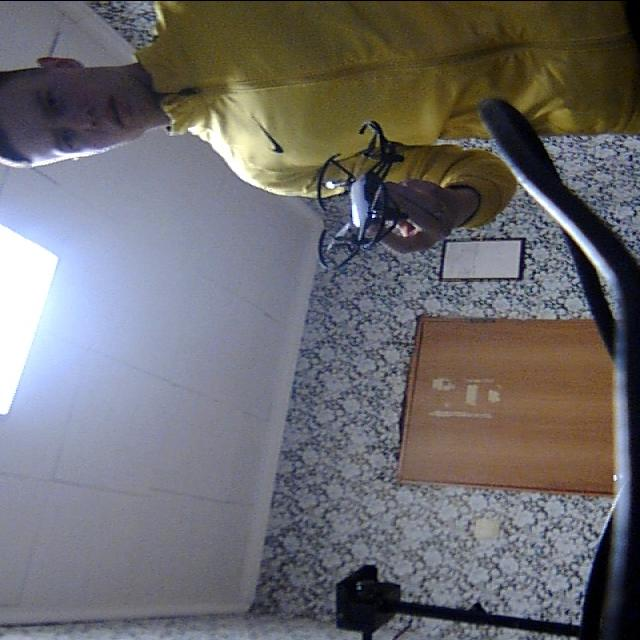drone: (306, 118, 412, 284)
